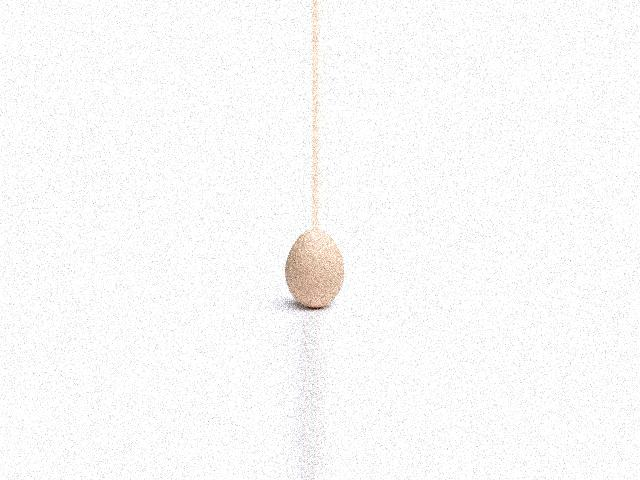egg: (285, 229, 343, 308)
